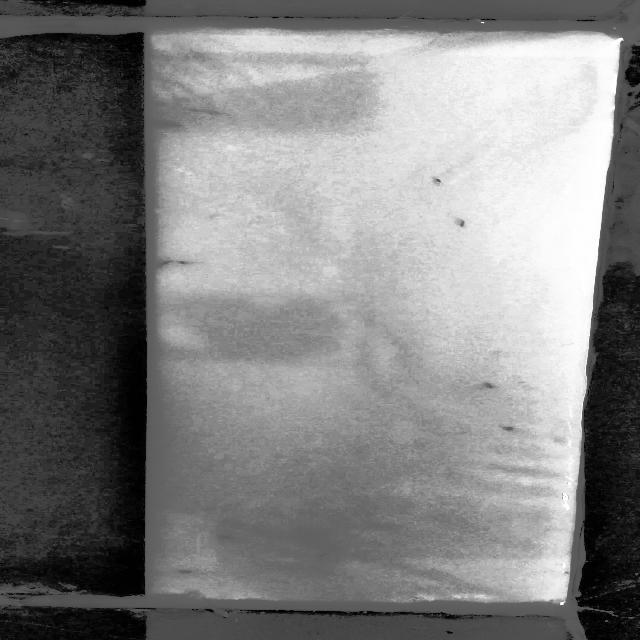shrimp: (427, 166, 473, 201), (446, 204, 478, 236), (302, 550, 352, 562), (145, 256, 182, 272), (169, 257, 211, 269), (211, 530, 247, 544), (177, 566, 212, 580), (478, 379, 504, 396), (502, 422, 518, 436)
